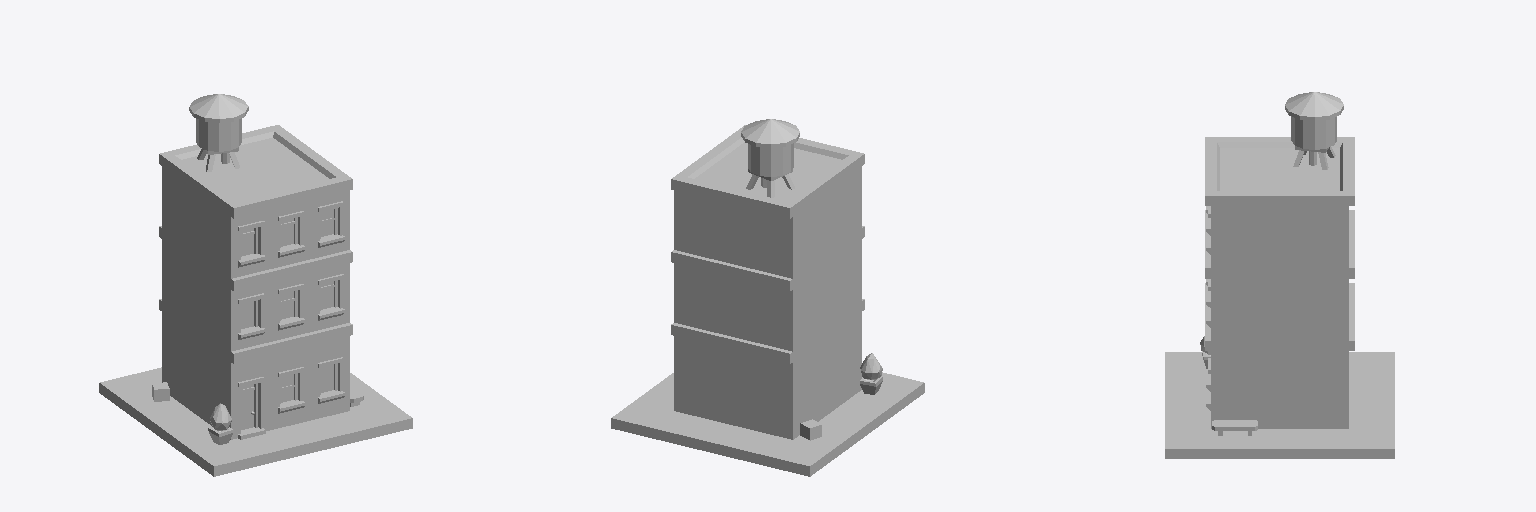
File: building_C.obj
3 views of the same model, side by side, from view 1: azimuth 30°, elevation 25°; view 2: azimuth 150°, elevation 25°; view 3: azimuth 270°, elevation 25° (orthographic).
Parts seen in each view (by area): view 1: building_C_Cube.937_texture_city; view 2: building_C_Cube.937_texture_city; view 3: building_C_Cube.937_texture_city.
Boxes of the visible parts, <box> form: building_C_Cube.937_texture_city: <box>99,94,412,476</box>; building_C_Cube.937_texture_city: <box>611,119,924,476</box>; building_C_Cube.937_texture_city: <box>1165,92,1394,458</box>.
Size of the model in its own units: 10 by 14.88 by 10.